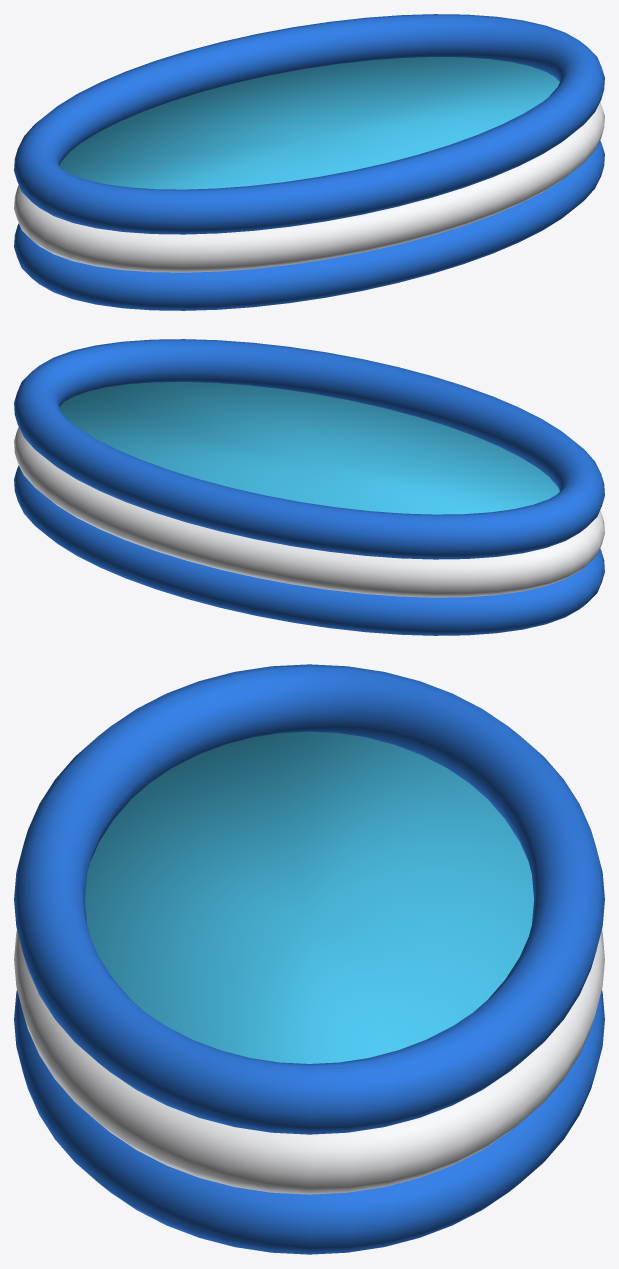
Rendered from pool.glb.
3 views of the same model, one above another, from view 1: azimuth 30°, elevation 25°; view 2: azimuth 150°, elevation 25°; view 3: azimuth 270°, elevation 25° (orthographic). The views are drawn at different scales.
Parts seen in each view (by area): view 1: Rim, Water; view 2: Rim, Water; view 3: Rim, Water.
Boxes of the visible parts, <box> form: Rim: <box>14,14,604,310</box>; Water: <box>59,57,559,189</box>; Rim: <box>14,339,604,635</box>; Water: <box>59,382,559,514</box>; Rim: <box>14,664,604,1254</box>; Water: <box>85,731,533,1063</box>.
Bounding box in the file's own units: 4.3 × 0.86 × 2.5.
